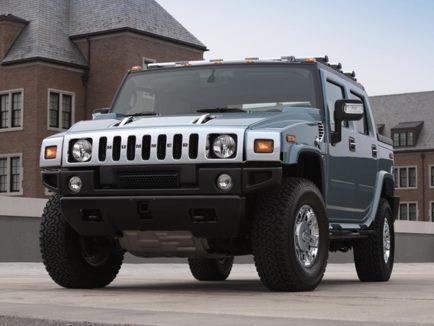Car: (26, 43, 408, 302)
